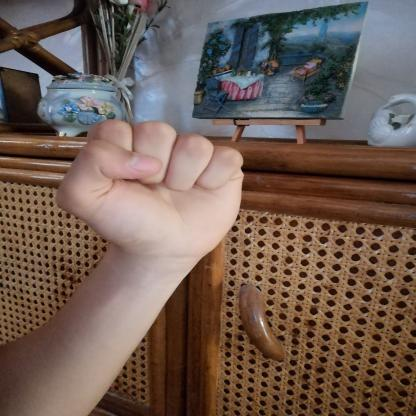SAD: (38, 105, 269, 271)
